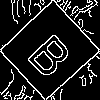B: (25, 25, 82, 81)
